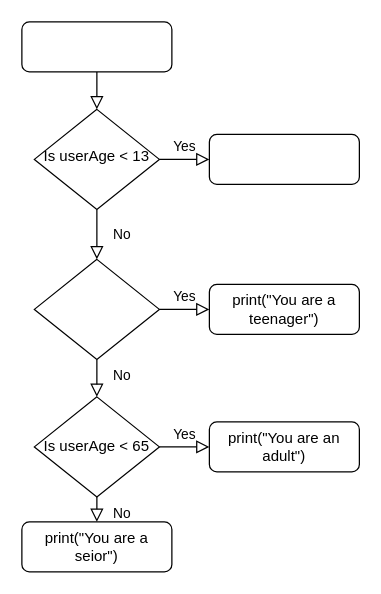
Some shapes in this 381 by 594 pixel diagram are drawn without their labels. The centre of each missing label's shape, as x and y in pixels:
Input userAge: the point at 96,46
Is userAge <=19: the point at 96,308
print("You are a child"): the point at 283,158
